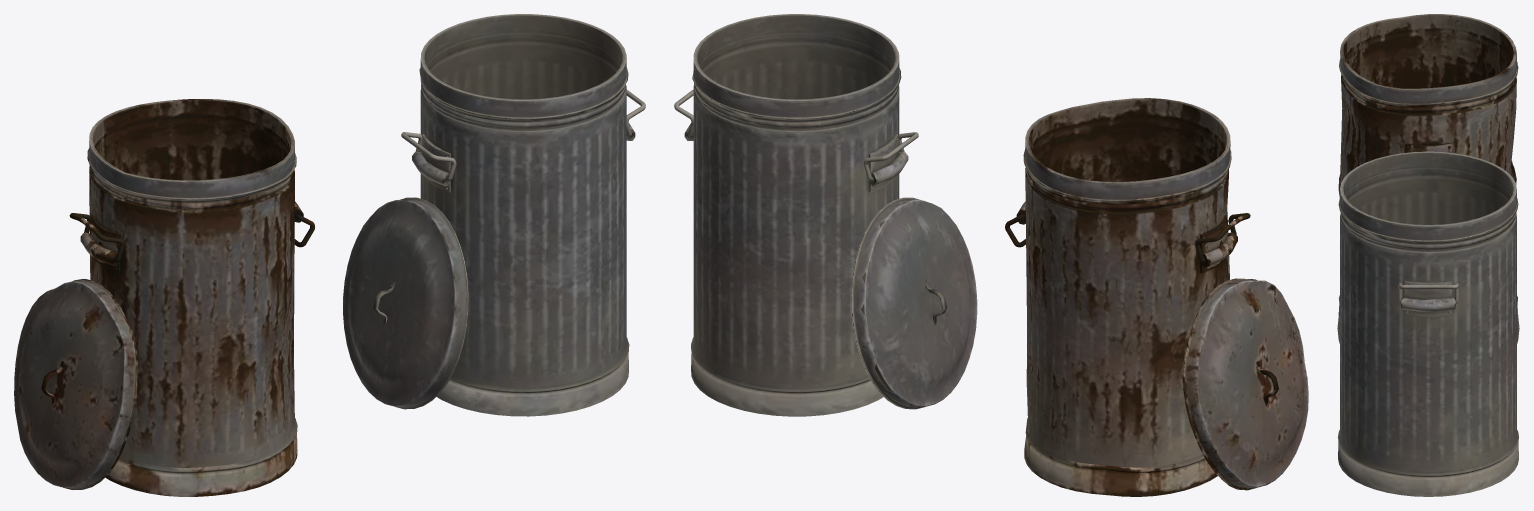
The model's file is metal_trash_can.glb.
3 renders of one model, left to right at view 1: azimuth 30°, elevation 25°; view 2: azimuth 150°, elevation 25°; view 3: azimuth 270°, elevation 25°, orthographic. The views are drawn at different scales.
Visible parts, largest first — view 1: metal_trash_can, metal_trash_can_rust, metal_trash_can_lid, metal_trash_can_rust_lid; view 2: metal_trash_can, metal_trash_can_rust, metal_trash_can_lid, metal_trash_can_rust_lid; view 3: metal_trash_can, metal_trash_can_rust, metal_trash_can_handle_right.
Part boxes in pixels (bbox=[...]): metal_trash_can: bbox=[412, 14, 635, 416]; metal_trash_can_rust: bbox=[80, 99, 303, 496]; metal_trash_can_lid: bbox=[343, 197, 468, 409]; metal_trash_can_rust_lid: bbox=[14, 279, 137, 489]; metal_trash_can: bbox=[684, 14, 908, 416]; metal_trash_can_rust: bbox=[1016, 98, 1237, 496]; metal_trash_can_lid: bbox=[851, 197, 977, 409]; metal_trash_can_rust_lid: bbox=[1183, 278, 1308, 490]; metal_trash_can: bbox=[1337, 151, 1518, 496]; metal_trash_can_rust: bbox=[1338, 14, 1518, 316]; metal_trash_can_handle_right: bbox=[1398, 283, 1458, 303].
Bounding box in the file's own units: 1.78 × 0.9062 × 0.5543.
2 materials, 2 textured.
